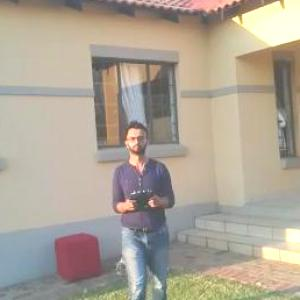follow: (102, 112, 178, 298)
